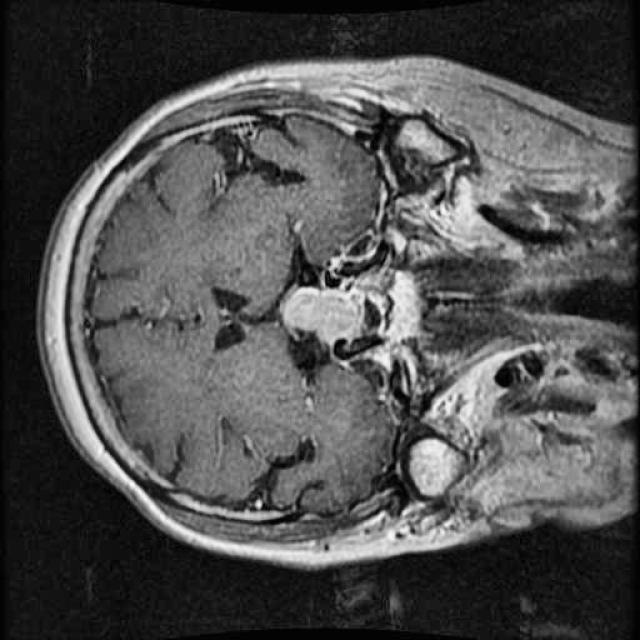Tumor: (275, 274, 375, 348)
